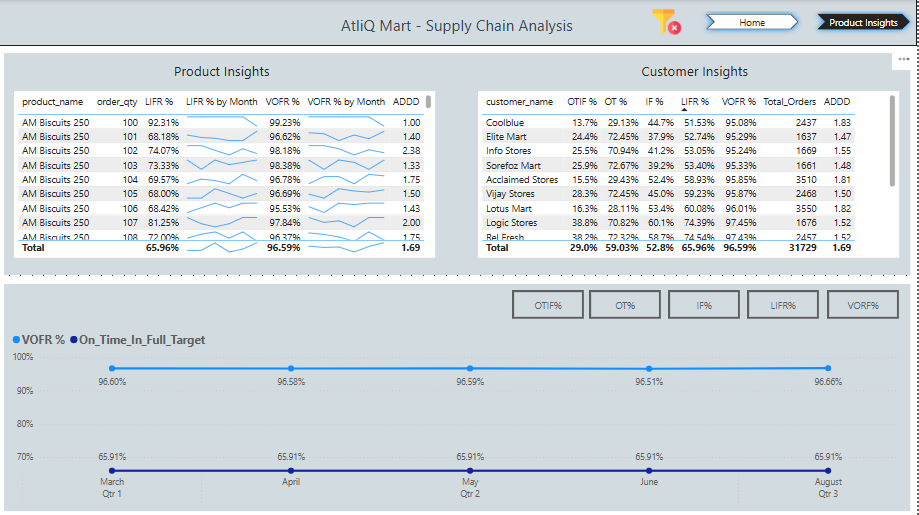

The page's visual inventory and layout, read from the dashboard file:
{"tool":"powerbi","page":{"name":"Product Insights","canvas":[1280,720],"ordinal":1},"visuals":[{"type":"textbox","box":[9.3,74.5,1260.8,309.3],"z":0},{"type":"textbox","box":[0,0,1279.5,65.4],"z":1000},{"type":"textbox","box":[9.3,396.1,1260.8,316.5],"z":2000},{"type":"tableEx","fields":{"Values":["dim_products.product_name","fact_order_lines.order_qty","Resource_measures.LIFR %","SparklineData(Resource_measures.LIFR %_[dim_date.date.Variation.Date Hierarchy.Month])","Resource_measures.VOFR %","SparklineData(Resource_measures.VOFR %_[dim_date.date.Variation.Date Hierarchy.Month])","Resource_measures.ADDD"]},"box":[23.8,128.3,586.4,231.7],"z":3000},{"type":"tableEx","fields":{"Values":["dim_customers.customer_name","Resource_measures.OTIF %","Resource_measures.OT %","Resource_measures.IF %","Resource_measures.LIFR %","Resource_measures.VOFR %","Resource_measures.Total_Orders","Resource_measures.ADDD"]},"box":[669.2,128.3,586.4,231.7],"z":4000},{"type":"textbox","box":[81.7,82.7,461.3,37.2],"z":6000},{"type":"textbox","box":[739.5,82.7,461.3,37.2],"z":7000},{"type":"actionButton","box":[716.8,404.4,100.3,40.3],"z":8000},{"type":"actionButton","title":"OT%","box":[824.3,404.4,100.3,40.3],"z":9000},{"type":"actionButton","box":[932.9,404.4,100.3,40.3],"z":10000},{"type":"actionButton","box":[1043.6,404.4,100.3,40.3],"z":11000},{"type":"actionButton","box":[1154.3,404.4,100.3,40.3],"z":12000},{"type":"lineChart","fields":{"Y":["Resource_measures.VOFR %","Resource_measures.On_Time_In_Full_Target"],"Category":["dim_date.mmm_yy.Variation.Date Hierarchy.Quarter","dim_date.mmm_yy.Variation.Date Hierarchy.Month"]},"box":[15.3,452.3,1245.7,259.4],"z":16000},{"type":"pageNavigator","box":[978.7,12,300.8,38.1],"z":17000},{"type":"image","box":[903.5,7.6,58.9,50.1],"z":18000}]}

Visuals, with their boxes in screenshot pixels (x1, y1, x2, y2), scaled from the page's 1280x720 canvas onto the 919x515 screenshot:
textbox: {"left": 7, "top": 53, "right": 912, "bottom": 275}
textbox: {"left": 0, "top": 0, "right": 918, "bottom": 47}
textbox: {"left": 7, "top": 283, "right": 912, "bottom": 510}
tableEx - dim_products.product_name x fact_order_lines.order_qty: {"left": 17, "top": 92, "right": 438, "bottom": 258}
tableEx - dim_customers.customer_name x Resource_measures.OTIF %: {"left": 480, "top": 92, "right": 901, "bottom": 258}
textbox: {"left": 59, "top": 59, "right": 390, "bottom": 86}
textbox: {"left": 531, "top": 59, "right": 862, "bottom": 86}
actionButton: {"left": 515, "top": 289, "right": 587, "bottom": 318}
"OT%" actionButton: {"left": 592, "top": 289, "right": 664, "bottom": 318}
actionButton: {"left": 670, "top": 289, "right": 742, "bottom": 318}
actionButton: {"left": 749, "top": 289, "right": 821, "bottom": 318}
actionButton: {"left": 829, "top": 289, "right": 901, "bottom": 318}
lineChart - Resource_measures.VOFR % x Resource_measures.On_Time_In_Full_Target: {"left": 11, "top": 324, "right": 905, "bottom": 509}
pageNavigator: {"left": 703, "top": 9, "right": 918, "bottom": 36}
image: {"left": 649, "top": 5, "right": 691, "bottom": 41}
